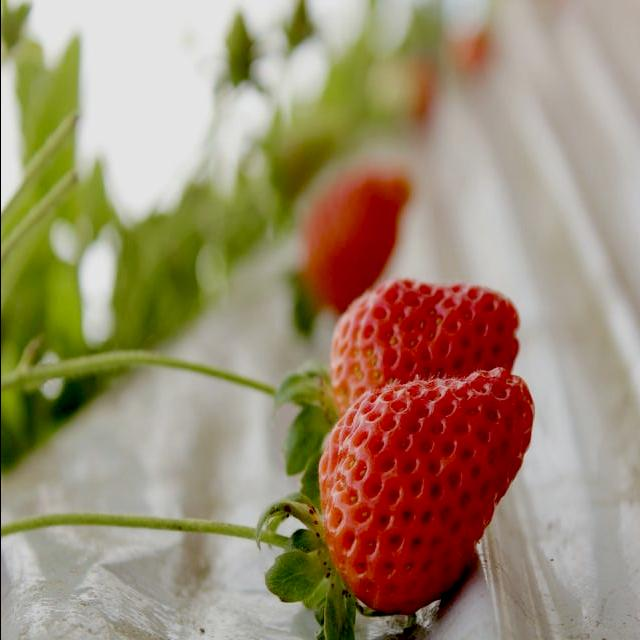ripe: (309, 368, 536, 624), (322, 268, 522, 439), (292, 166, 416, 312)
